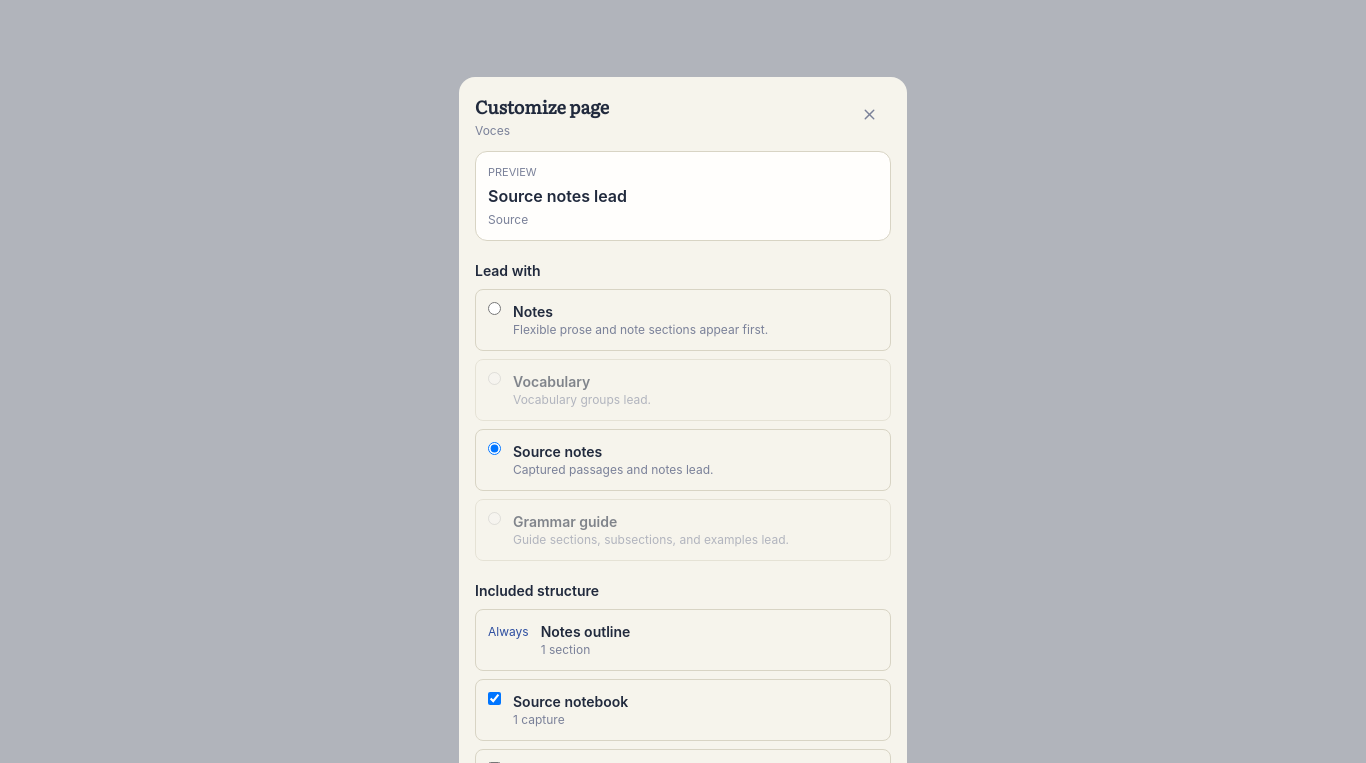
PageCustomizeSheet › shows the always-included Notes outline and keeps an outlined dated page in Pages
The width and height of the screenshot is (1366, 763).
Expected: the element labelled "Notes outline" is shown, [475,609,891,671]
Expected: the text "1 section" is shown, [541,642,590,657]
Click the checkbox labelled "Source notebook 1 capture": click(494, 699) [488,692,501,705]
(page scrolled)
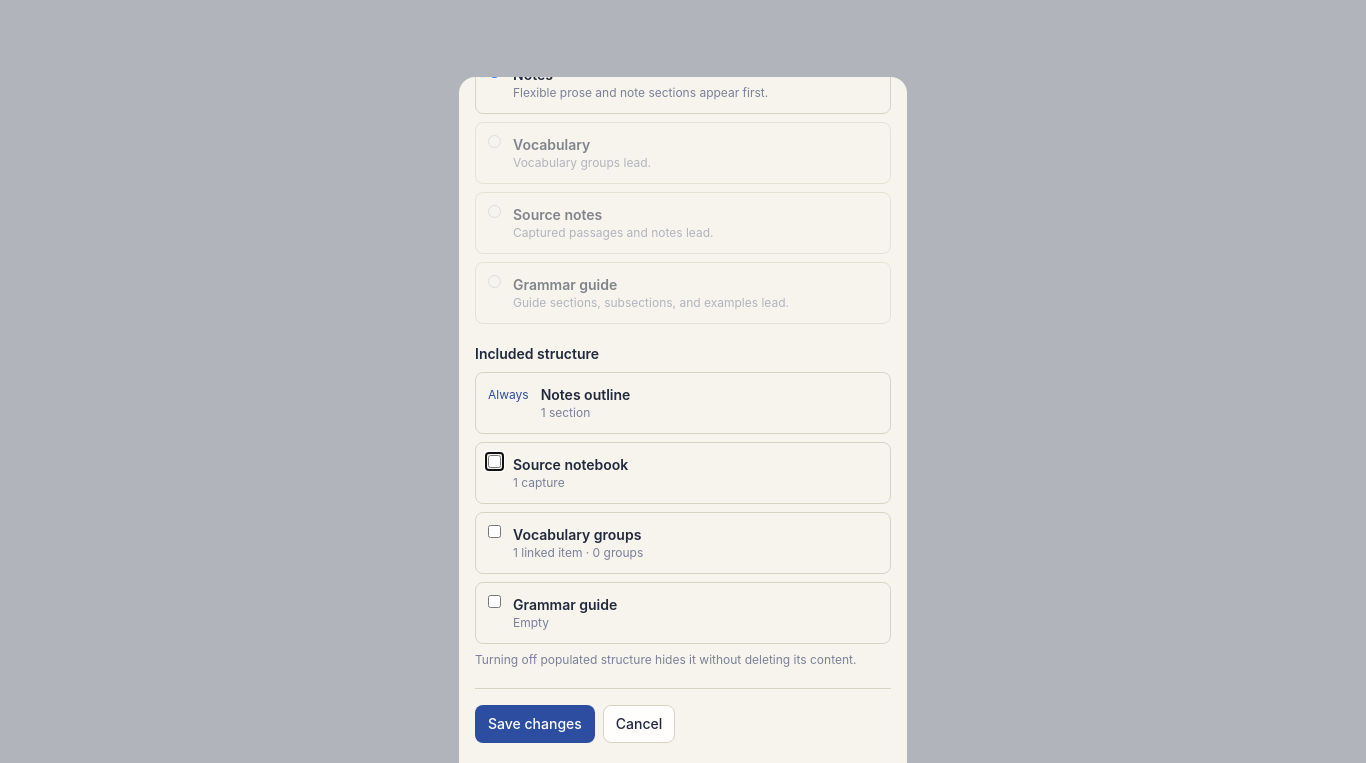
Now the button "Save changes" is shown, box [475,705,595,743]
